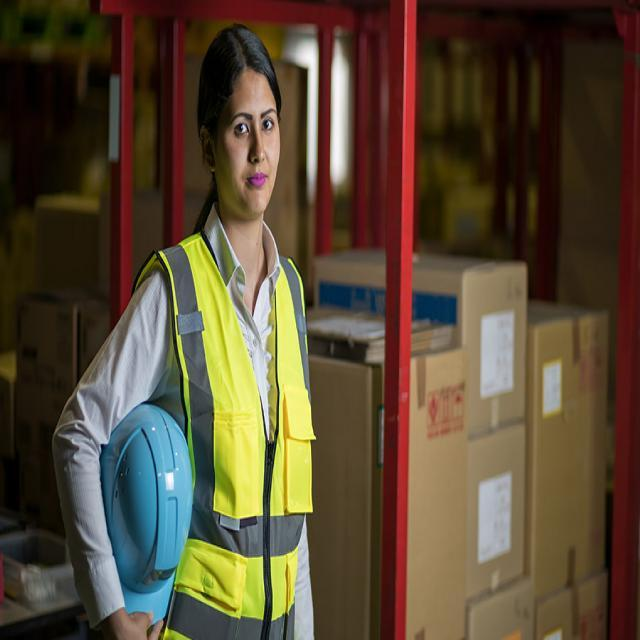NoHelmet: (198, 24, 284, 209)
Vest: (132, 242, 319, 640)
